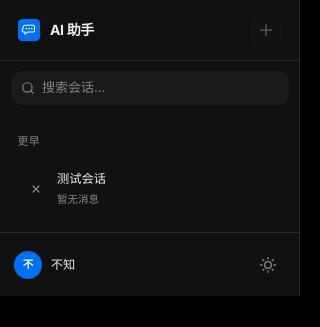
Test: conversationList (additional) › 搜索结果为空显示提示
Type "不存在的会话" into the field with placeholder "搜索会话..." at {"x": 150, "y": 88}, box [10, 71, 288, 104]
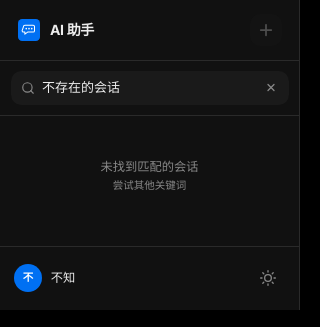
Now the text "未找到匹配的会话" is shown, box [100, 158, 198, 176]
